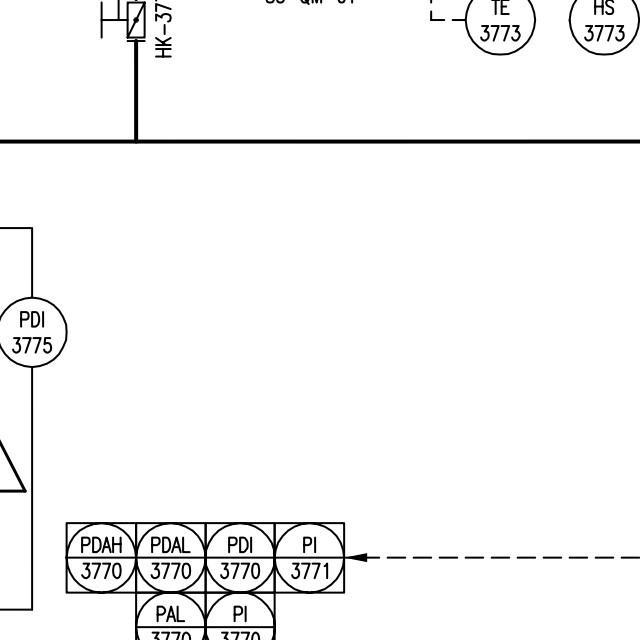BV: (90, 0, 152, 47)
